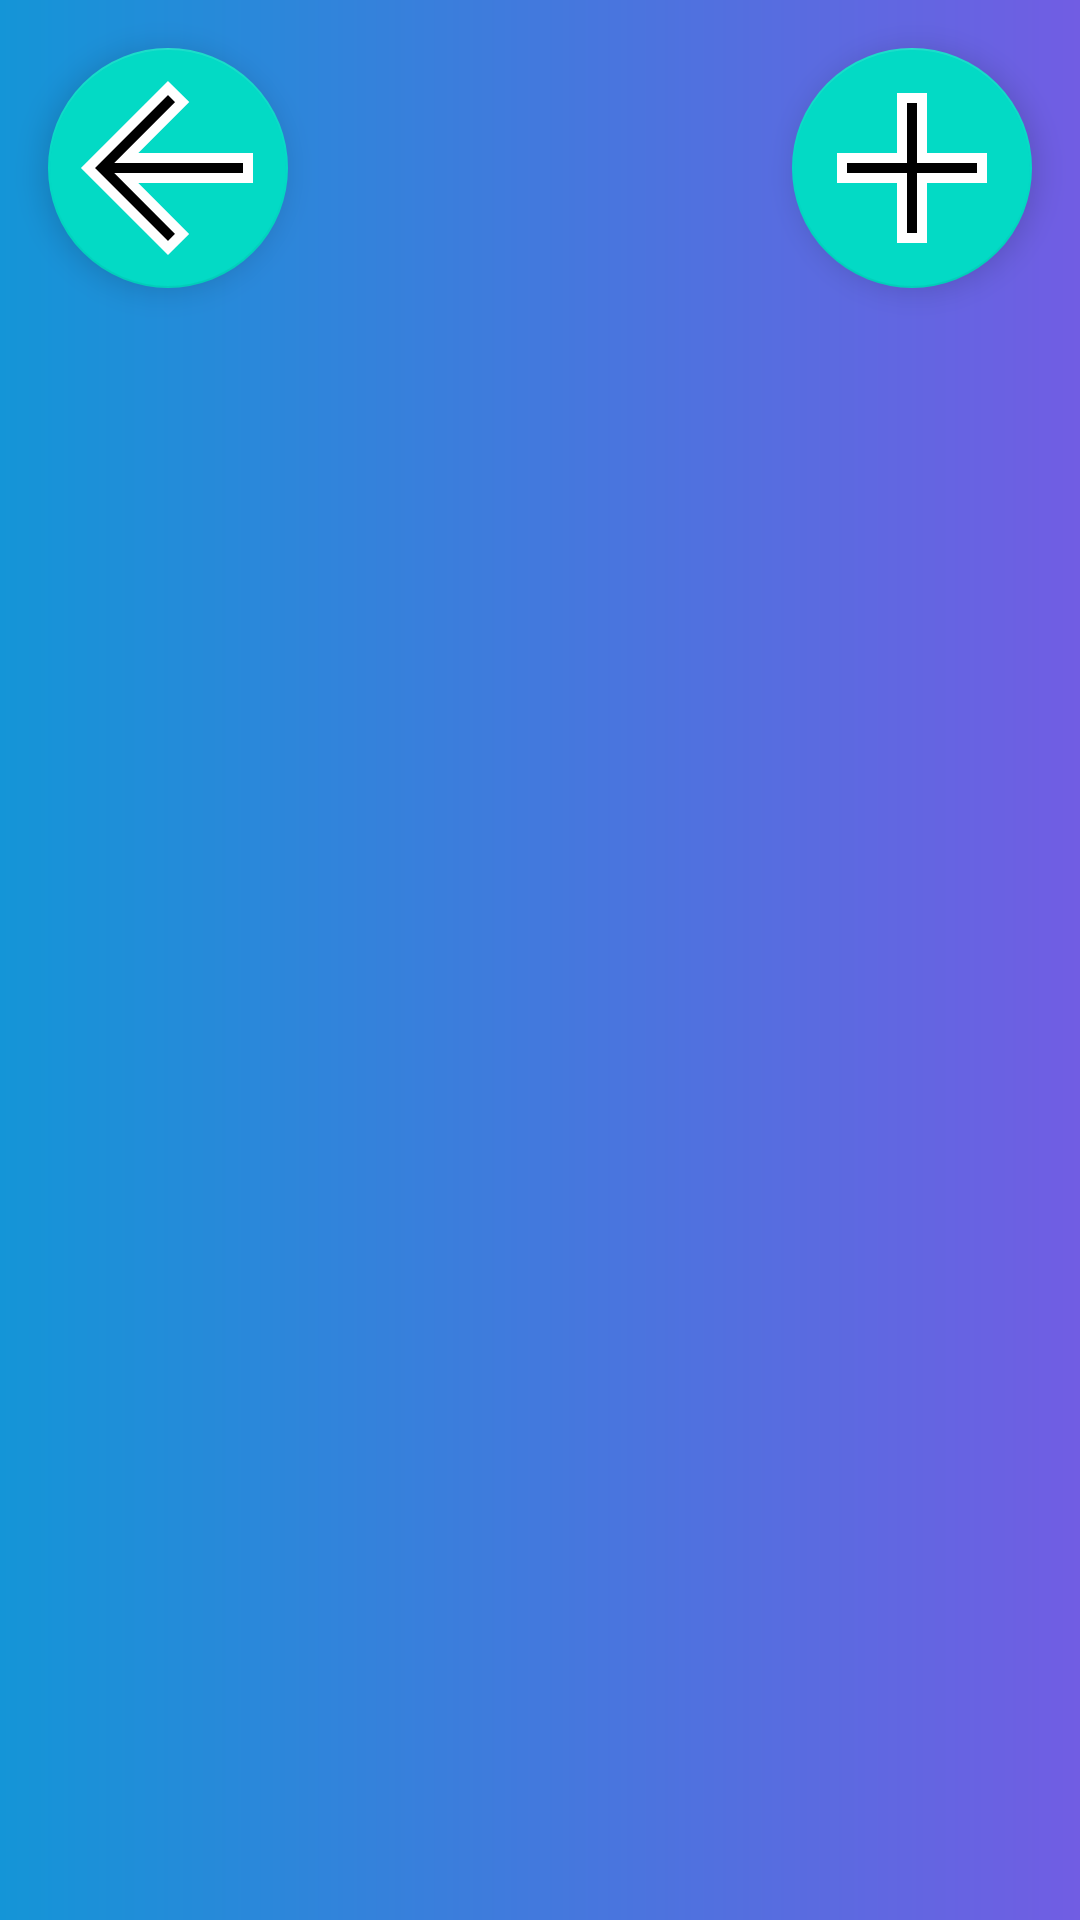

Named icons in this screenshot (1080px x 1920px) and their centers, point (x, y):
add: point (912, 168)
arrow back: point (168, 168)
